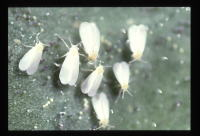whitefly: (18, 36, 48, 78), (58, 38, 82, 88), (78, 21, 104, 67), (80, 64, 107, 99), (127, 23, 148, 67), (112, 60, 135, 100), (90, 92, 114, 130)
